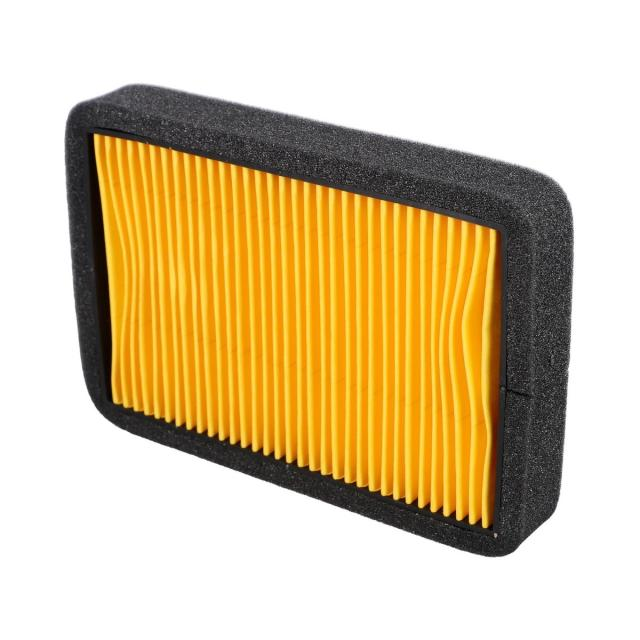air_filter: (55, 74, 590, 567)
